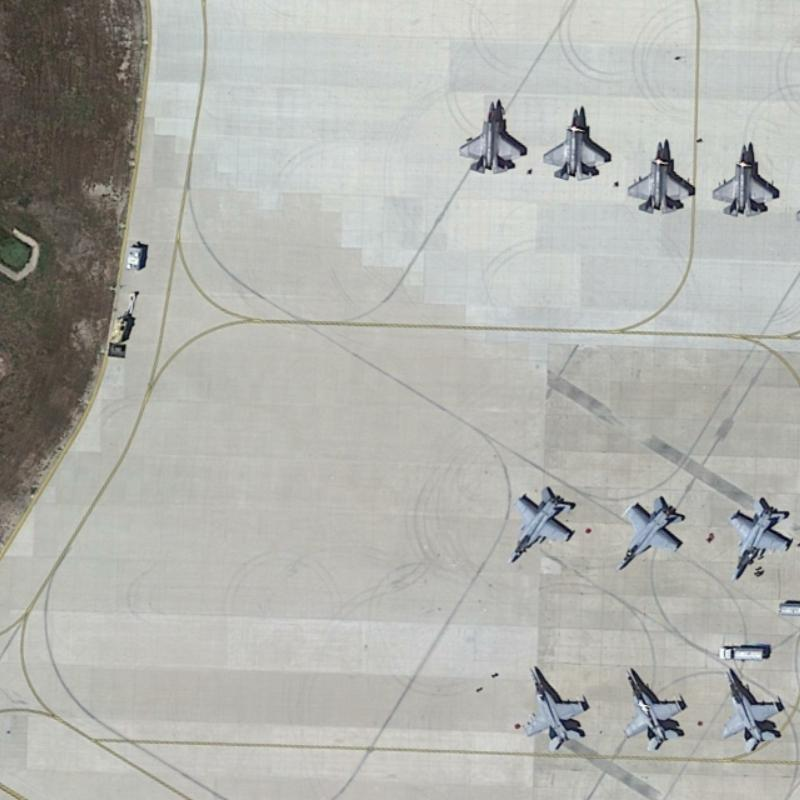A15: (705, 138, 784, 221), (537, 99, 613, 182), (453, 94, 528, 177), (621, 136, 698, 216)
A16: (504, 478, 578, 567), (718, 663, 788, 754), (725, 495, 795, 584), (523, 659, 589, 753), (614, 489, 688, 571), (621, 661, 687, 750)
